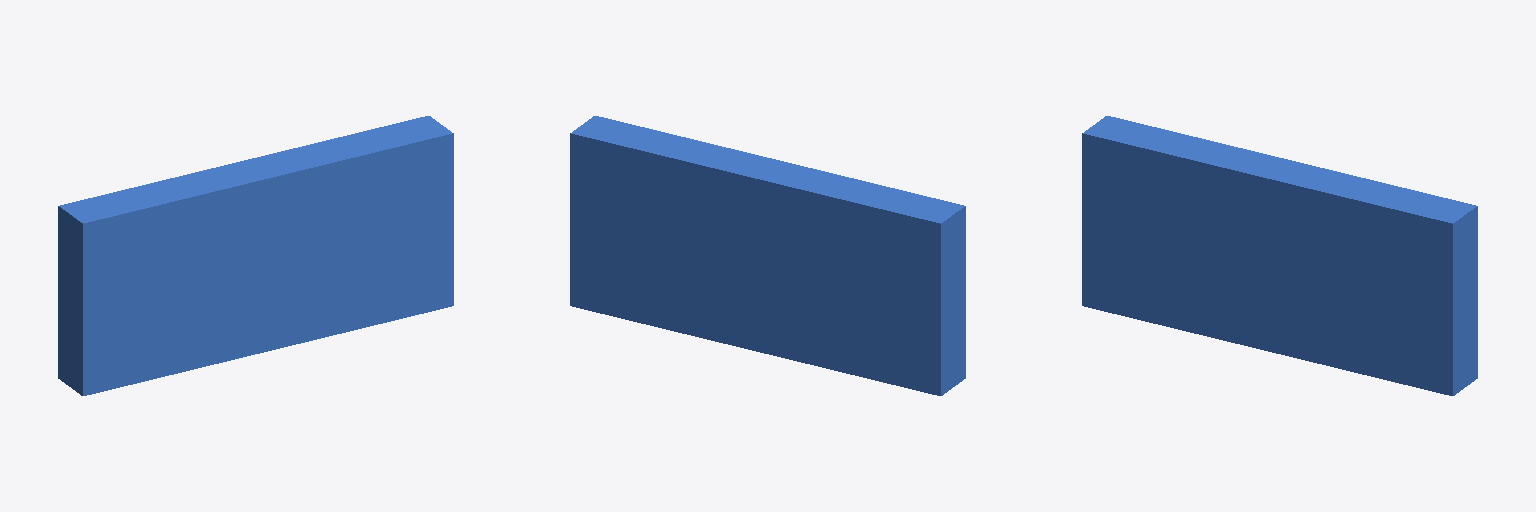
File: candle.obj
The picture shows the model from 3 angles: view 1: azimuth 30°, elevation 25°; view 2: azimuth 150°, elevation 25°; view 3: azimuth 330°, elevation 25°; orthographic projection.
Parts seen in each view (by area): view 1: Box003; view 2: Box003; view 3: Box003.
Boxes of the visible parts, <box> form: Box003: <box>58,116,453,395</box>; Box003: <box>570,116,965,395</box>; Box003: <box>1082,116,1477,395</box>.
Size of the model in its own units: 3462 by 1543 by 397.